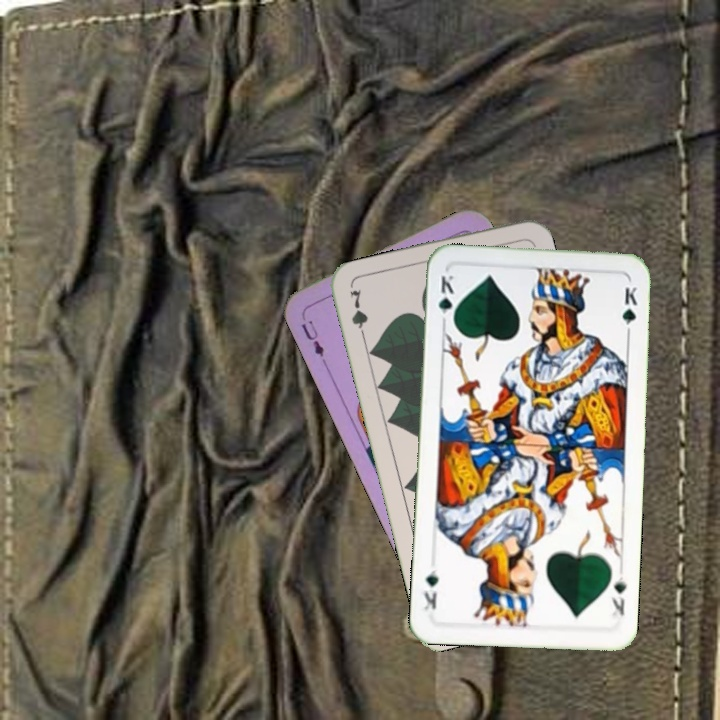EU: (297, 316, 329, 367)
G7: (345, 285, 371, 344)
GK: (434, 271, 457, 328), (607, 572, 629, 618)
